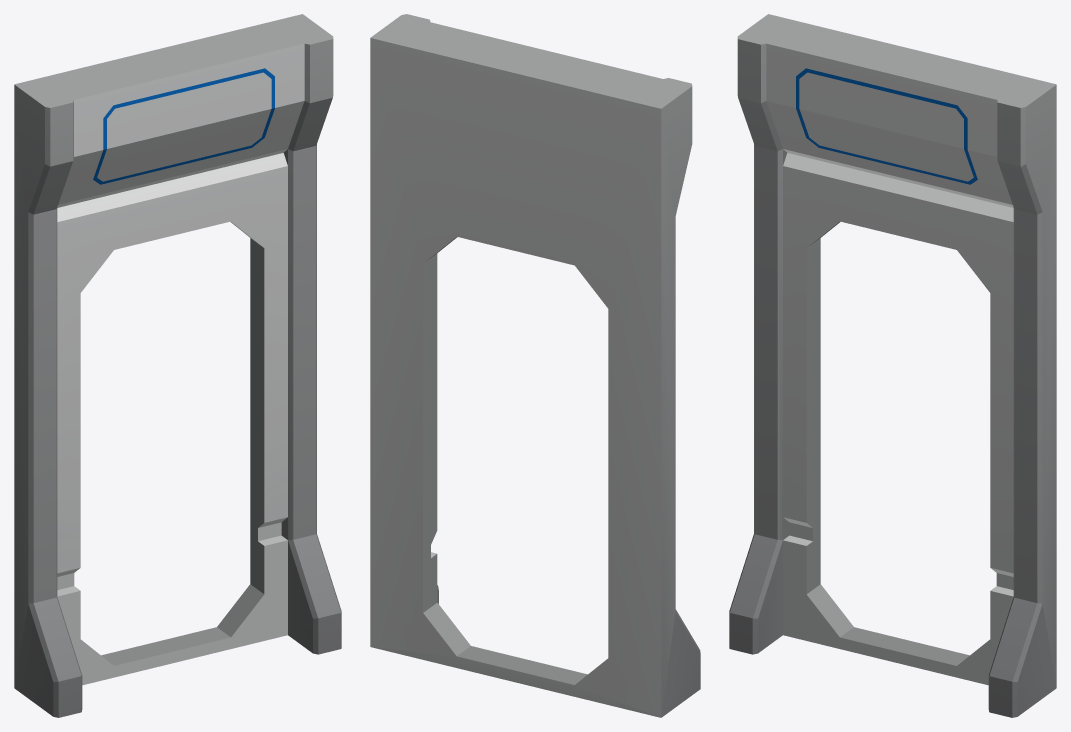
The model's file is Wall_type_A_058.fbx.
3 renders of one model, left to right at view 1: azimuth 30°, elevation 25°; view 2: azimuth 150°, elevation 25°; view 3: azimuth 330°, elevation 25°, orthographic.
Parts seen in each view (by area): view 1: Wall_type_A_058; view 2: Wall_type_A_058; view 3: Wall_type_A_058.
Boxes of the visible parts, x1,y1,x2,y2 form: Wall_type_A_058: (14,14,341,717); Wall_type_A_058: (370,14,700,717); Wall_type_A_058: (729,14,1056,717).
Bounding box in the file's own units: 200 × 50 × 400.
